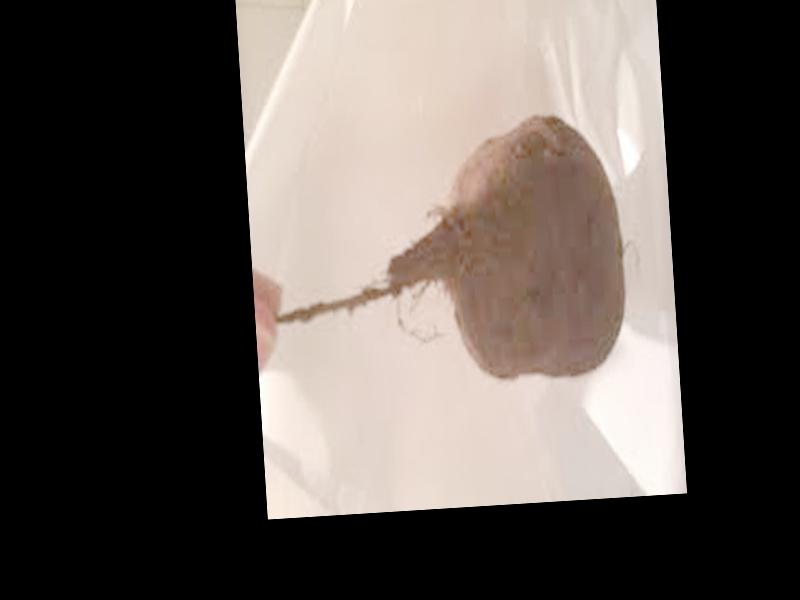Beet: (260, 109, 631, 394)
